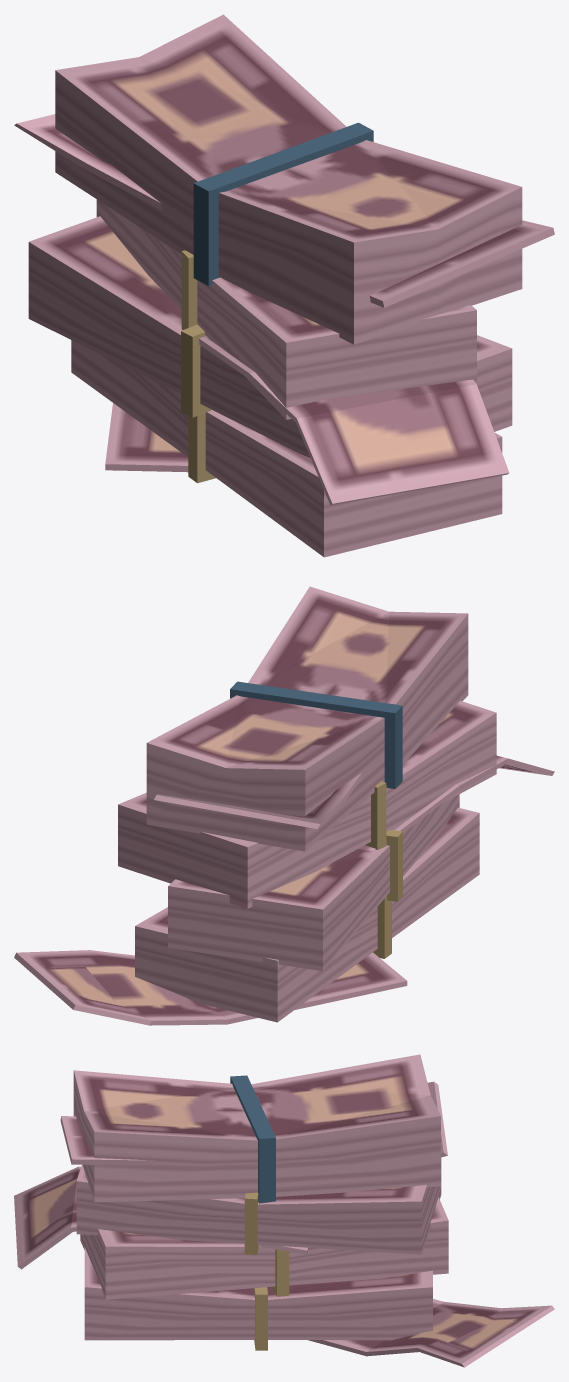
Rendered from SM_Prop_Money_Stack_01.fbx.
The picture shows the model from 3 angles, top to bottom: view 1: azimuth 30°, elevation 25°; view 2: azimuth 150°, elevation 25°; view 3: azimuth 270°, elevation 25°; orthographic projection. The views are drawn at different scales.
Parts seen in each view (by area): view 1: SM_Prop_Money_Stack_01; view 2: SM_Prop_Money_Stack_01; view 3: SM_Prop_Money_Stack_01.
Boxes of the visible parts, box(x1,y1,x2,y2) form: SM_Prop_Money_Stack_01: box(14, 14, 554, 557); SM_Prop_Money_Stack_01: box(14, 586, 554, 1025); SM_Prop_Money_Stack_01: box(14, 1054, 554, 1367).
Bounding box in the file's own units: 23.17 × 19.45 × 42.46.
